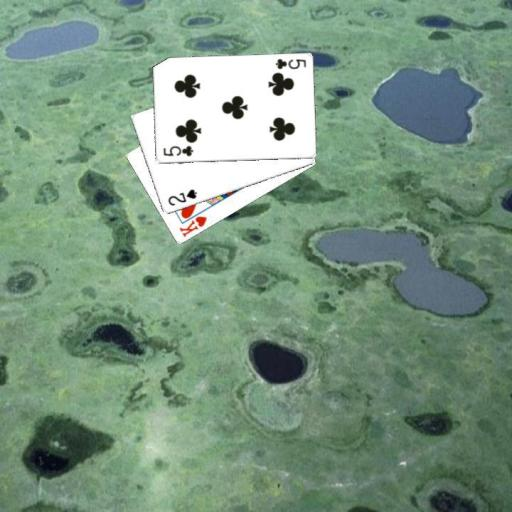2S: (165, 186, 198, 208)
5C: (272, 56, 307, 71), (160, 143, 194, 158)
KH: (176, 213, 208, 239)
